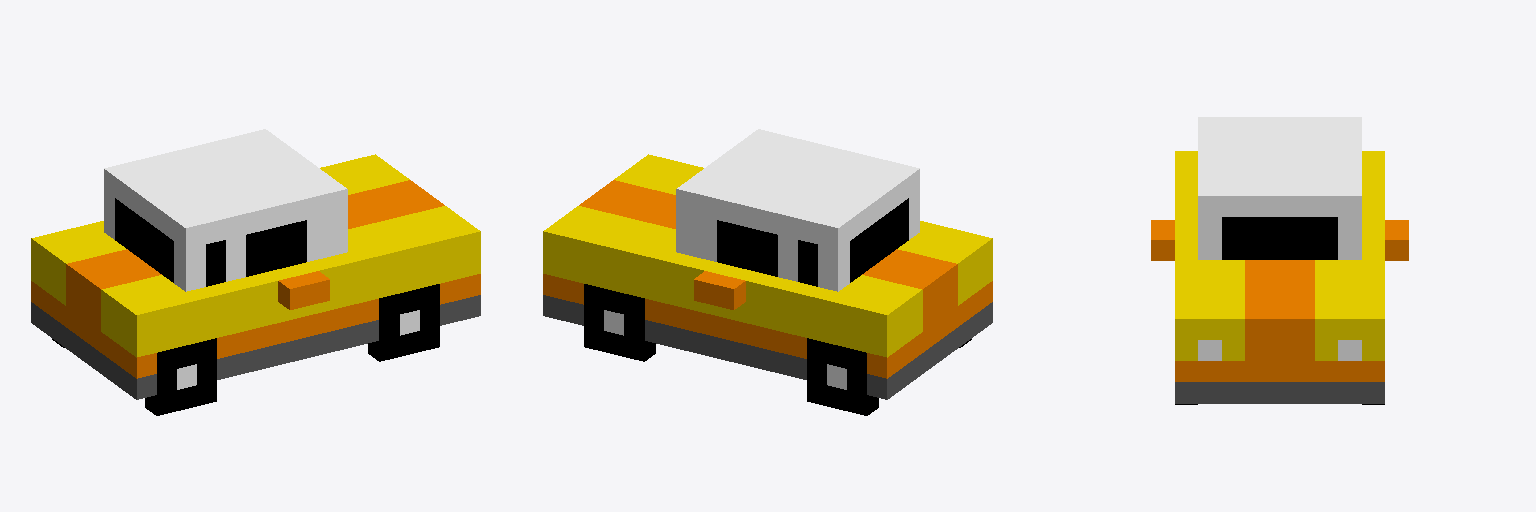
3 renders of one model, left to right at view 1: azimuth 30°, elevation 25°; view 2: azimuth 150°, elevation 25°; view 3: azimuth 270°, elevation 25°, orthographic.
Parts seen in each view (by area): view 1: object 1; view 2: object 1; view 3: object 1.
Boxes of the visible parts, x1,y1,x2,y2 form: object 1: [31, 129, 480, 415]; object 1: [543, 129, 992, 415]; object 1: [1151, 117, 1408, 404].
Bounding box in the file's own units: 1.7 × 0.8 × 1.1.
Materials: 1 (1 with a texture image).